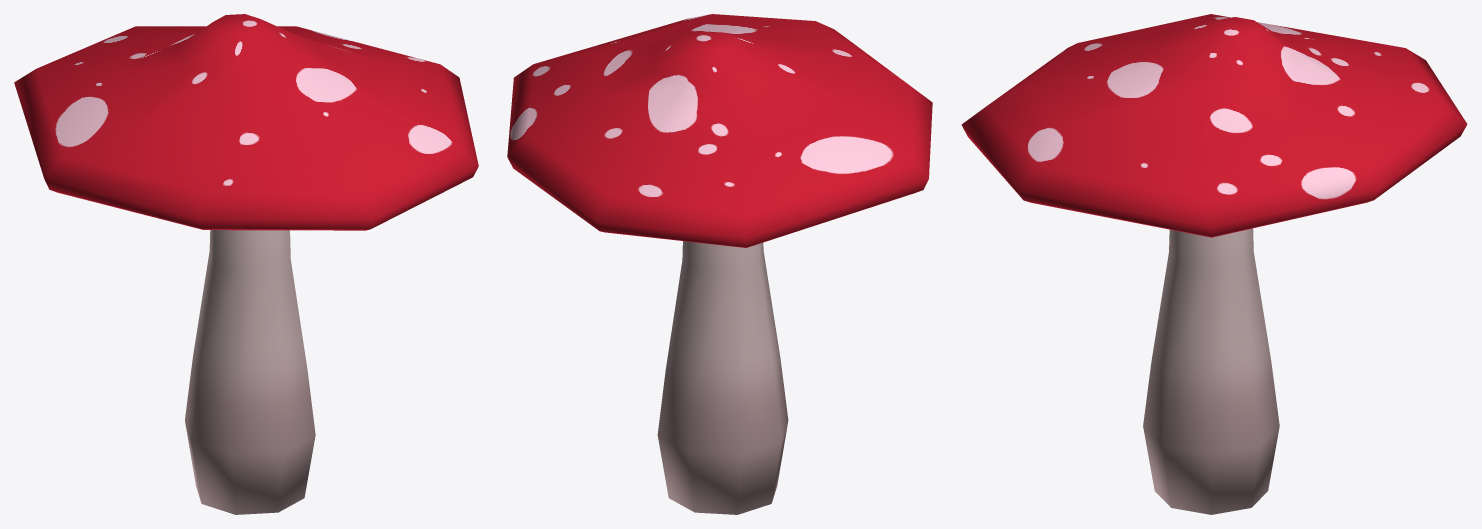
Rendered from Mushroom2.fbx.
3 renders of one model, left to right at view 1: azimuth 30°, elevation 25°; view 2: azimuth 150°, elevation 25°; view 3: azimuth 270°, elevation 25°, orthographic.
Visible parts, largest first — view 1: Cylinder; view 2: Cylinder; view 3: Cylinder.
Boxes of the visible parts, x1,y1,x2,y2 form: Cylinder: [14, 14, 478, 514]; Cylinder: [507, 14, 932, 514]; Cylinder: [961, 14, 1467, 514].
Size of the model in its own units: 226 by 239 by 237.
Materials: 1 (1 with a texture image).
